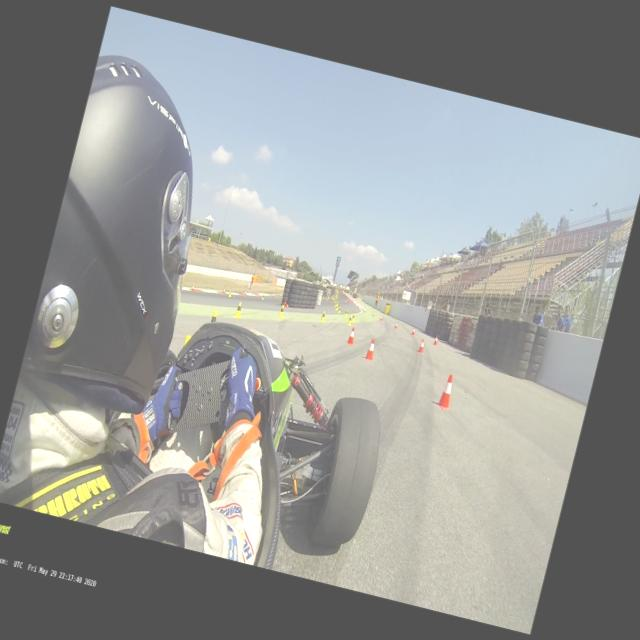orange_cone: (434, 372, 458, 410), (362, 337, 378, 362), (344, 326, 358, 346), (416, 338, 426, 353), (432, 335, 438, 345), (410, 327, 416, 336), (378, 314, 384, 320), (220, 288, 226, 294), (393, 322, 398, 329), (190, 284, 195, 291), (370, 311, 374, 317), (278, 292, 282, 298), (243, 290, 247, 296), (271, 293, 274, 299), (364, 308, 366, 312)
yellow_cone: (232, 301, 244, 318), (182, 334, 192, 348), (276, 304, 286, 317), (210, 310, 218, 324), (319, 310, 326, 322), (350, 312, 356, 322), (347, 315, 352, 325), (226, 290, 232, 298), (343, 309, 348, 317), (337, 306, 341, 314), (260, 294, 264, 300), (334, 305, 338, 310), (334, 302, 336, 307)
